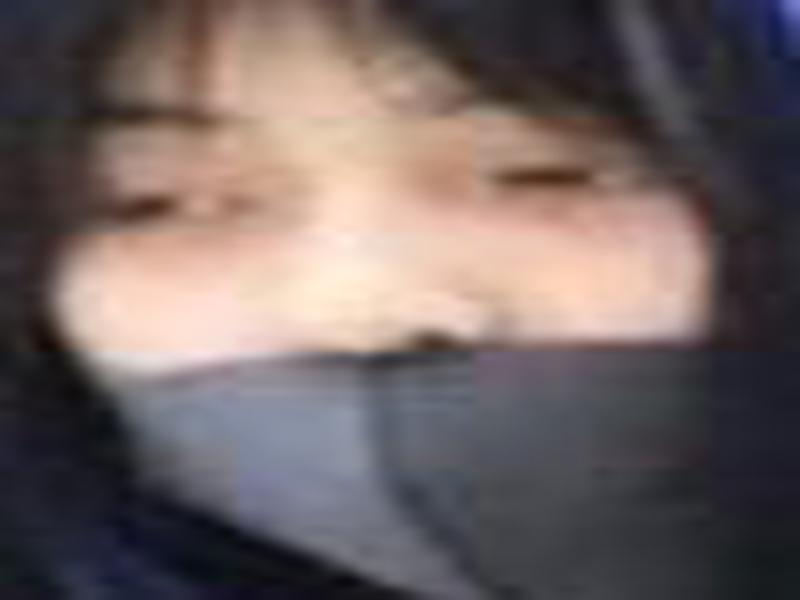with_mask: (31, 1, 752, 592)
